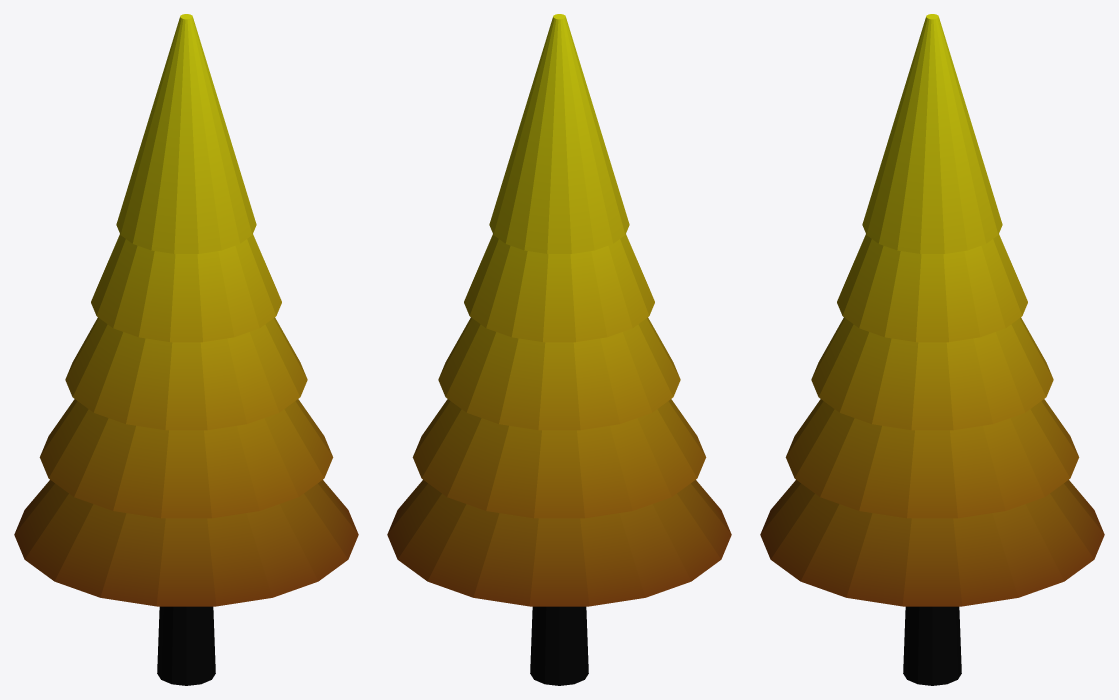
Rendered from tree_conifer.glb.
The picture shows the model from 3 angles, left to right: view 1: azimuth 30°, elevation 25°; view 2: azimuth 150°, elevation 25°; view 3: azimuth 270°, elevation 25°; orthographic projection.
Visible parts, largest first — view 1: leaves_tier, leaves_tier.001, leaves_tier.002, leaves_tier.004, leaves_tier.003, tree_trunk; view 2: leaves_tier, leaves_tier.001, leaves_tier.002, leaves_tier.004, leaves_tier.003, tree_trunk; view 3: leaves_tier, leaves_tier.001, leaves_tier.002, leaves_tier.004, leaves_tier.003, tree_trunk.
Part boxes in pixels (left/top/right/bottom): leaves_tier: left=14, top=480, right=358, bottom=606; leaves_tier.001: left=39, top=399, right=333, bottom=518; leaves_tier.002: left=65, top=317, right=307, bottom=430; leaves_tier.004: left=116, top=14, right=256, bottom=253; leaves_tier.003: left=91, top=234, right=281, bottom=342; tree_trunk: left=157, top=606, right=215, bottom=685; leaves_tier: left=387, top=480, right=731, bottom=606; leaves_tier.001: left=412, top=399, right=706, bottom=518; leaves_tier.002: left=438, top=317, right=680, bottom=430; leaves_tier.004: left=489, top=14, right=629, bottom=253; leaves_tier.003: left=464, top=234, right=654, bottom=342; tree_trunk: left=530, top=606, right=588, bottom=685; leaves_tier: left=760, top=480, right=1104, bottom=606; leaves_tier.001: left=785, top=399, right=1079, bottom=518; leaves_tier.002: left=811, top=317, right=1053, bottom=430; leaves_tier.004: left=862, top=14, right=1002, bottom=253; leaves_tier.003: left=837, top=234, right=1027, bottom=342; tree_trunk: left=903, top=606, right=961, bottom=685.
Bounding box in the file's own units: 2.66 × 5.68 × 2.7.
